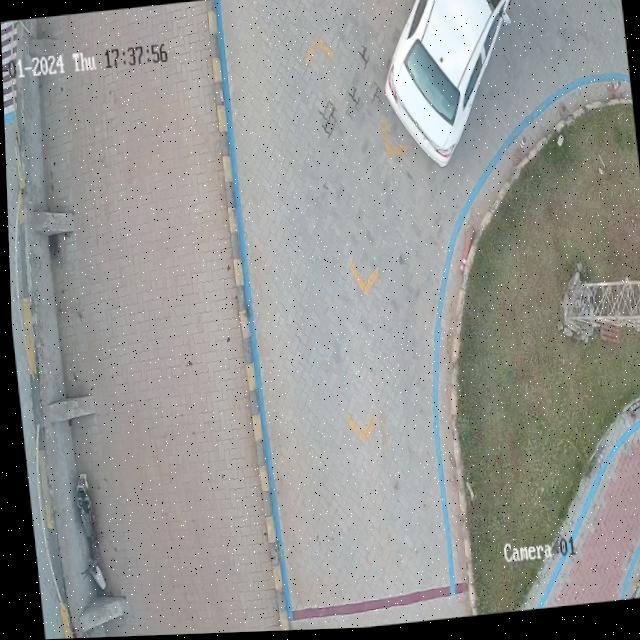car: (383, 0, 512, 170)
